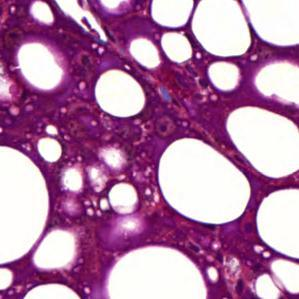steatosis: (160, 137, 251, 226), (92, 69, 148, 117), (159, 33, 201, 66)
